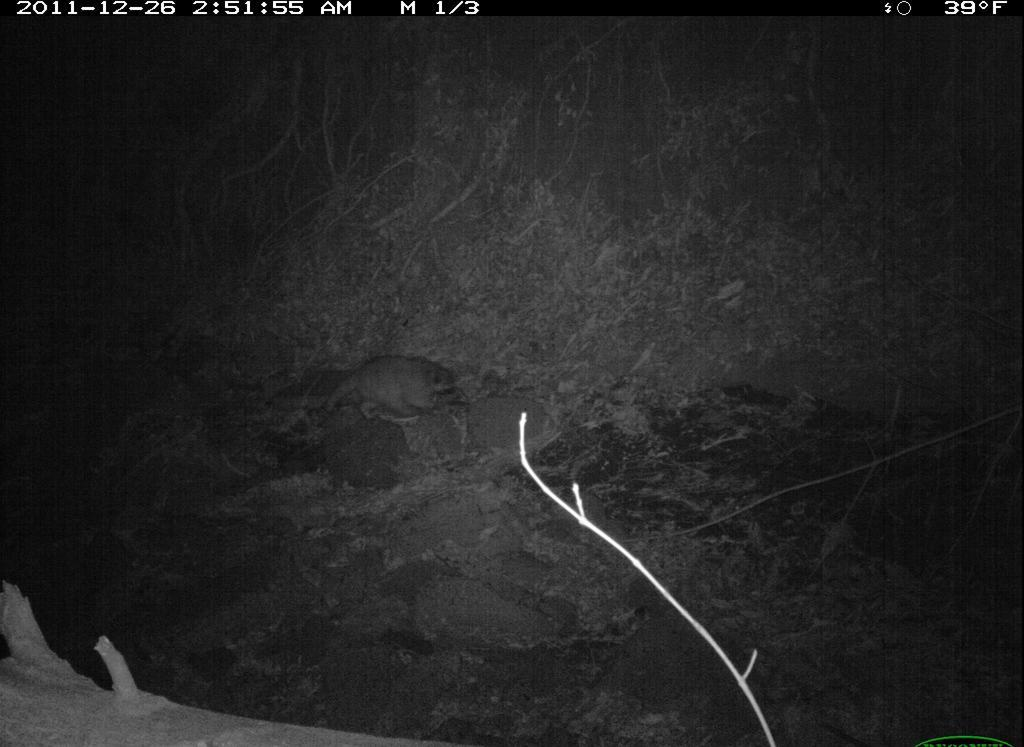raccoon: (319, 349, 465, 428)
